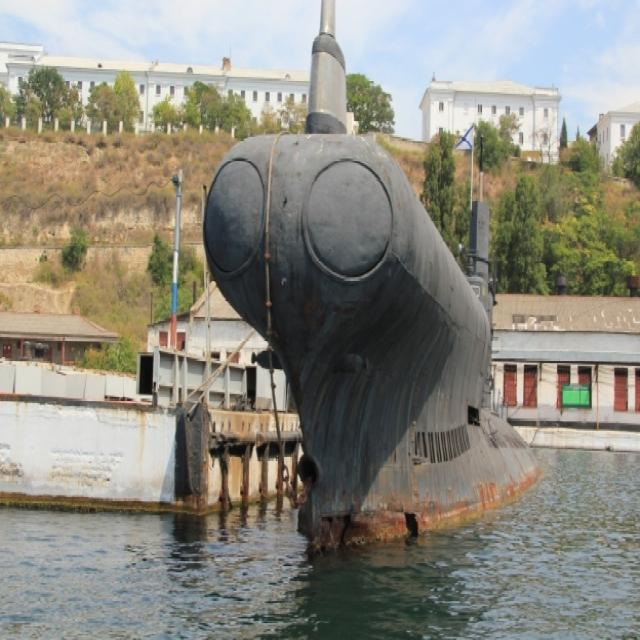submarine: (199, 1, 552, 561)
